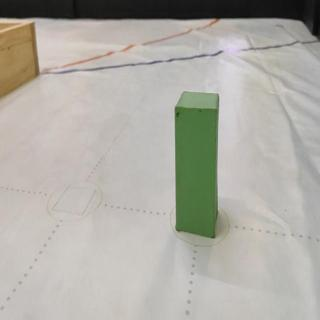greenbox: (173, 88, 221, 237)
